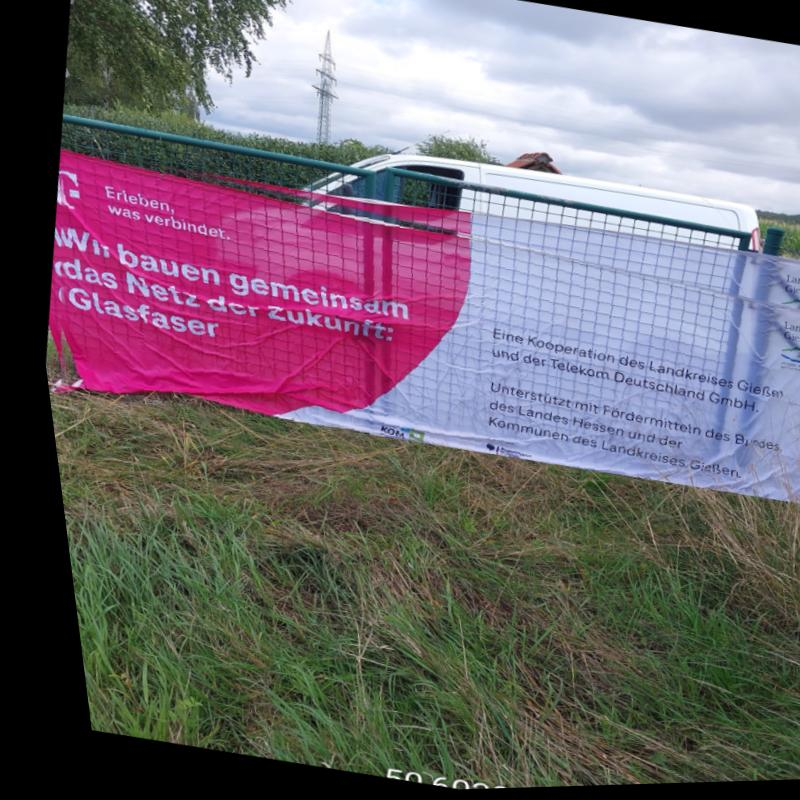Banner: (51, 142, 800, 510)
